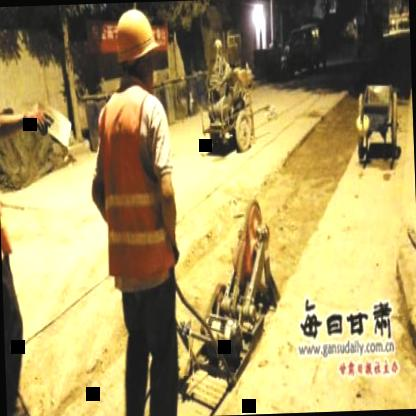helmet: (112, 5, 157, 76)
